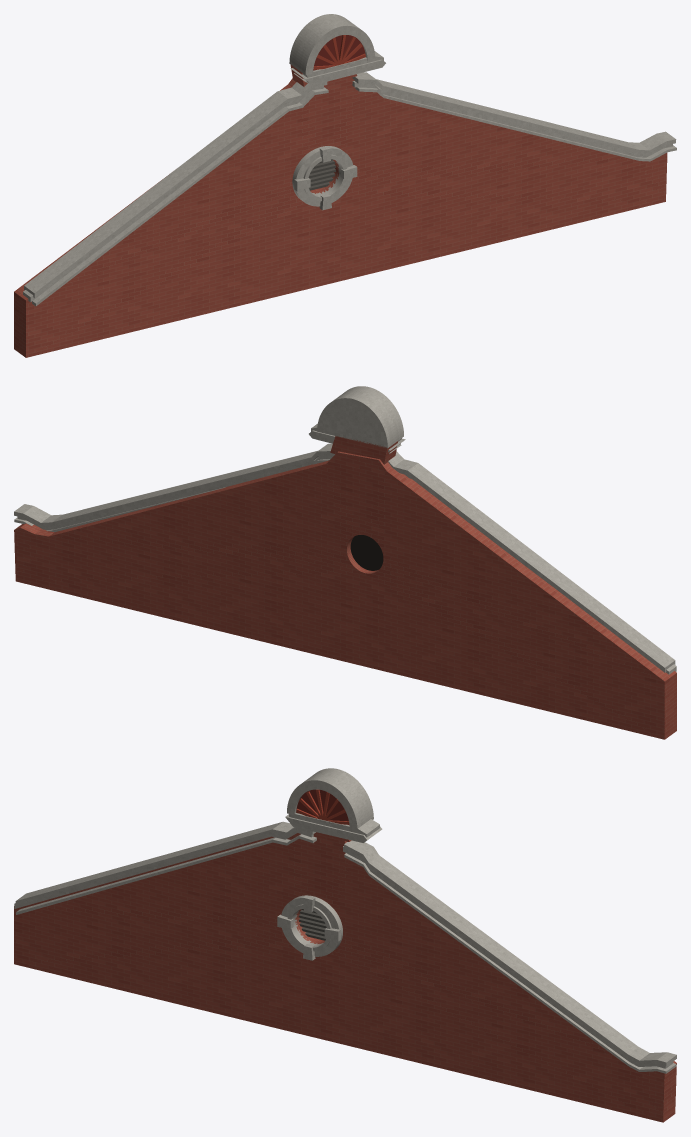
Rendered from yangpu-yangshupu-road-713-historic-residence-raw.glb.
3 renders of one model, top to bottom at view 1: azimuth 30°, elevation 25°; view 2: azimuth 150°, elevation 25°; view 3: azimuth 330°, elevation 25°, orthographic.
Visible parts, largest first — view 1: 杨树浦路713号花园住宅的红砖山花; view 2: 杨树浦路713号花园住宅的红砖山花; view 3: 杨树浦路713号花园住宅的红砖山花.
Boxes of the visible parts, x1,y1,x2,y2 form: 杨树浦路713号花园住宅的红砖山花: [14, 14, 676, 357]; 杨树浦路713号花园住宅的红砖山花: [14, 386, 676, 739]; 杨树浦路713号花园住宅的红砖山花: [14, 768, 676, 1122].
Bounding box in the file's own units: 12.45 × 4.77 × 0.6.
6 materials, 2 textured.
